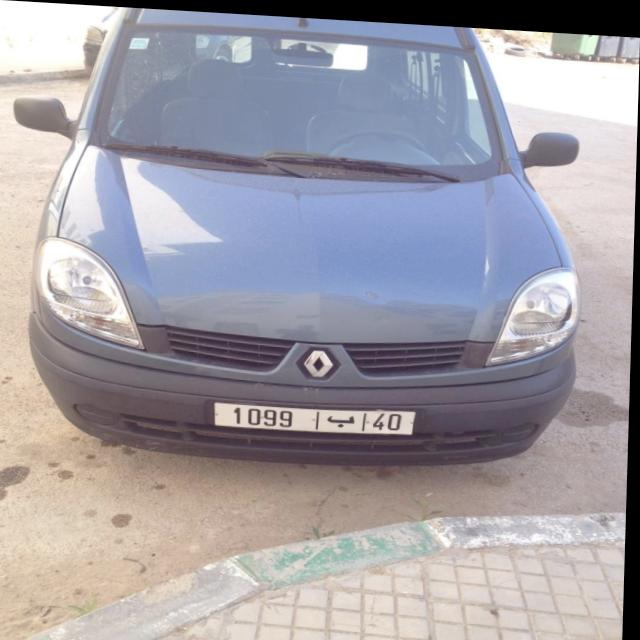License-Plate: (216, 399, 418, 430)
